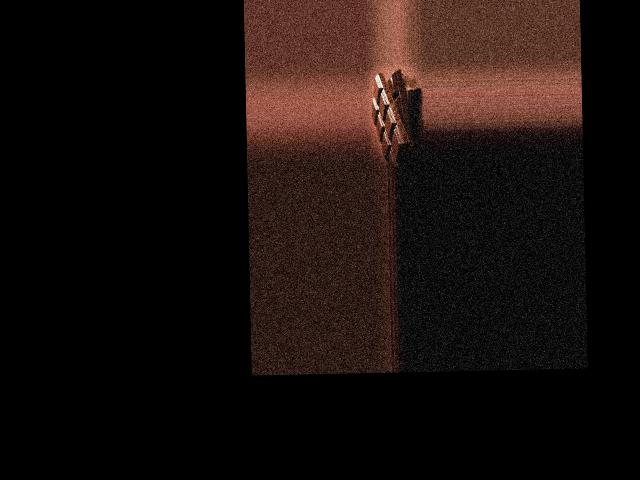chocolate: (371, 69, 416, 164)
